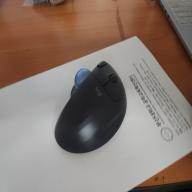mouse: (52, 57, 128, 156)
